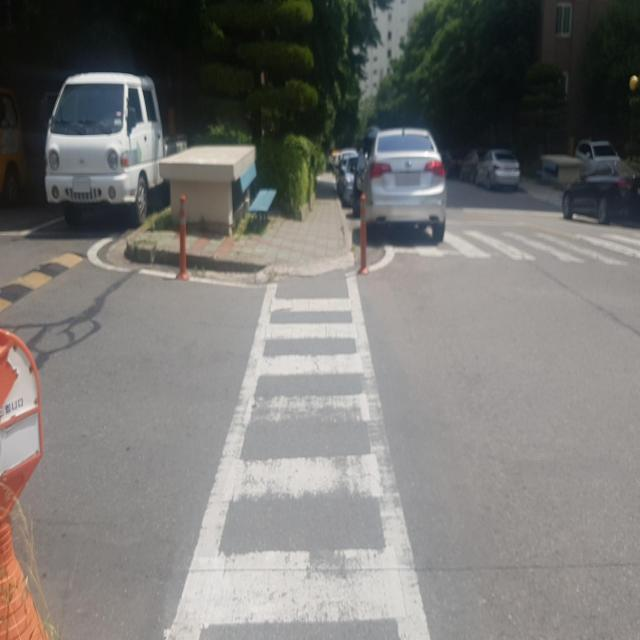횡단보도: (164, 269, 433, 639), (400, 228, 640, 259)
